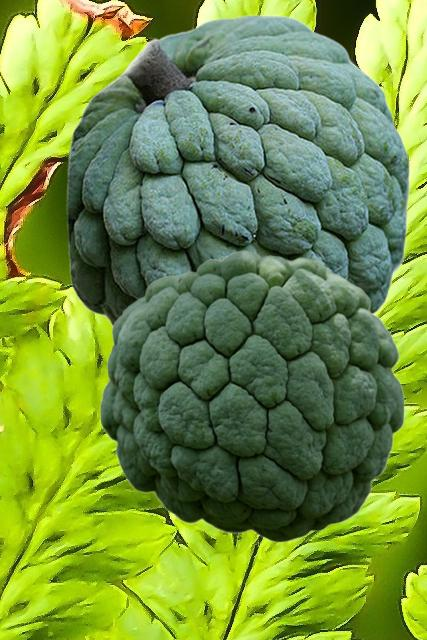atis: (66, 14, 409, 326), (99, 250, 404, 542)
